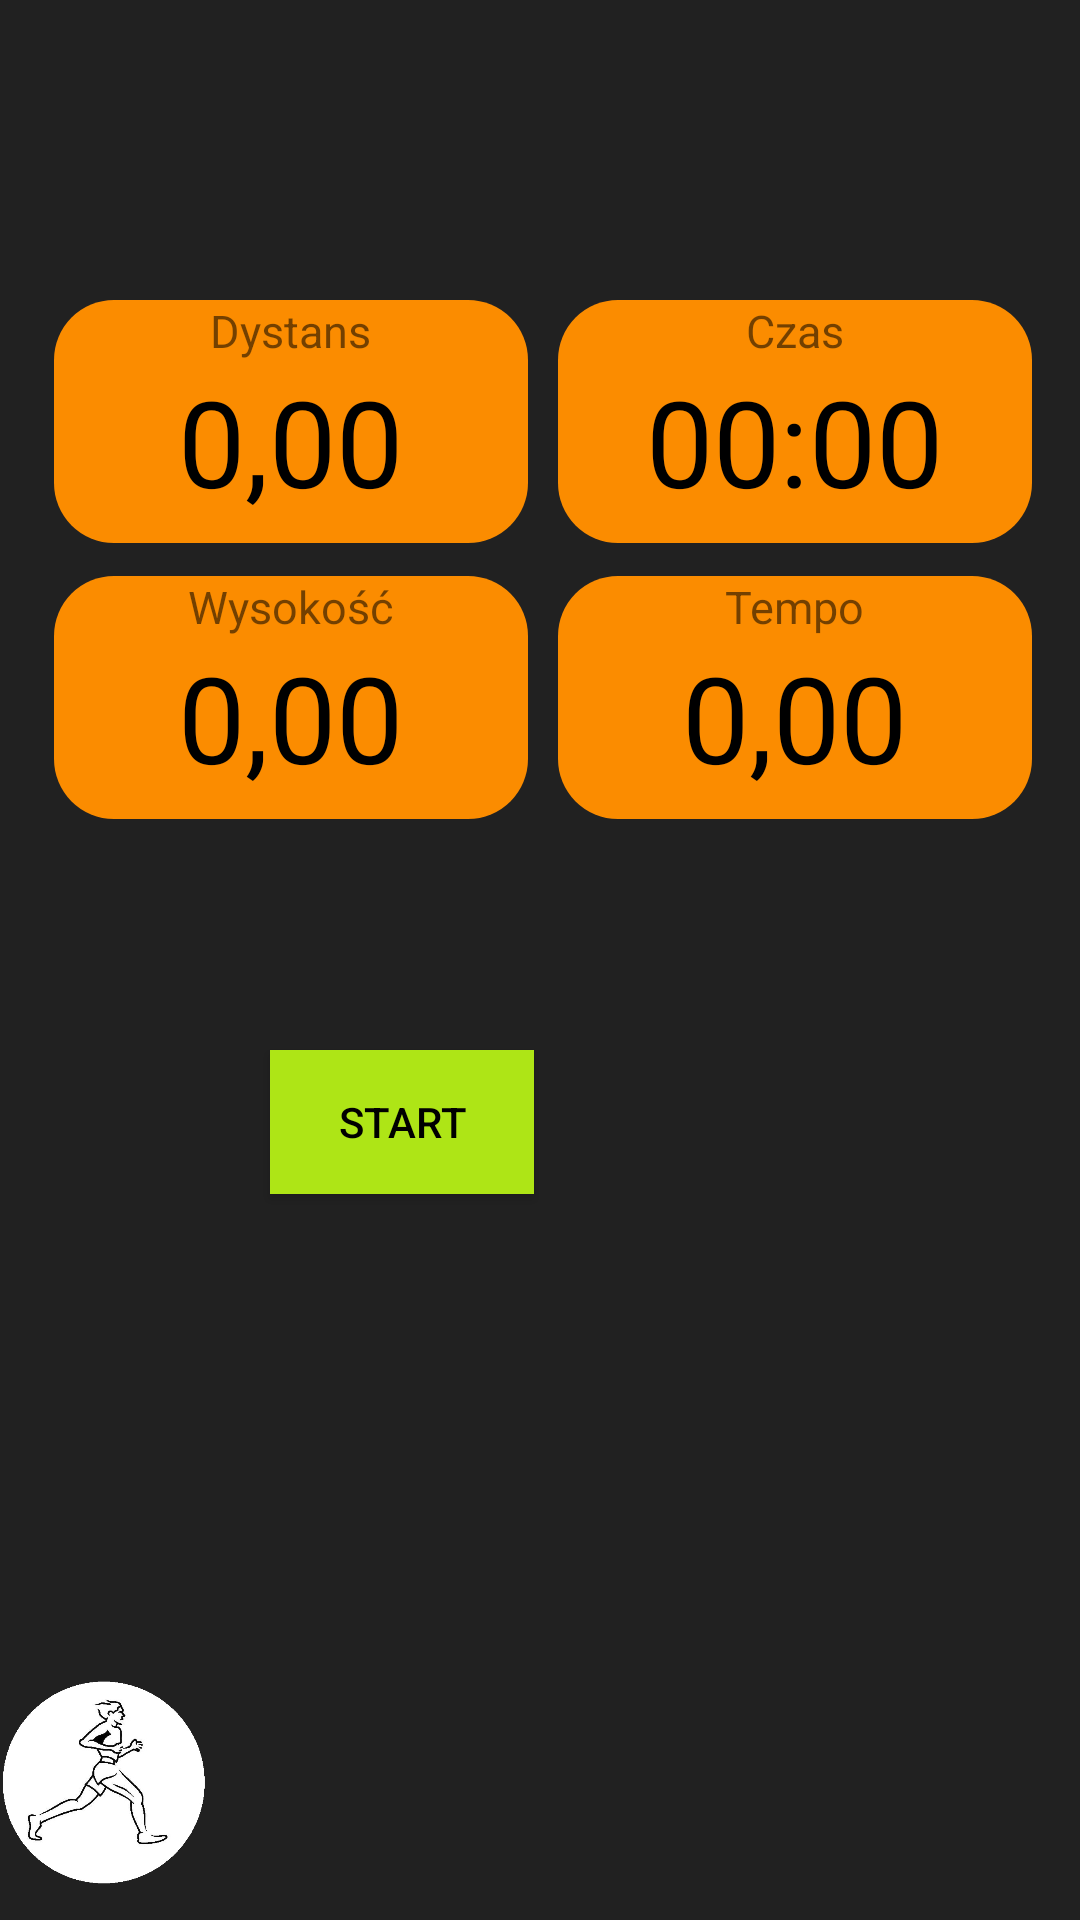

Screen size 1080px x 1920px. Icon name, then its box in pixels as [left=x1, top=y1, right=x2, bottom=y2]:
biegaczz: [left=3, top=1681, right=205, bottom=1884]
